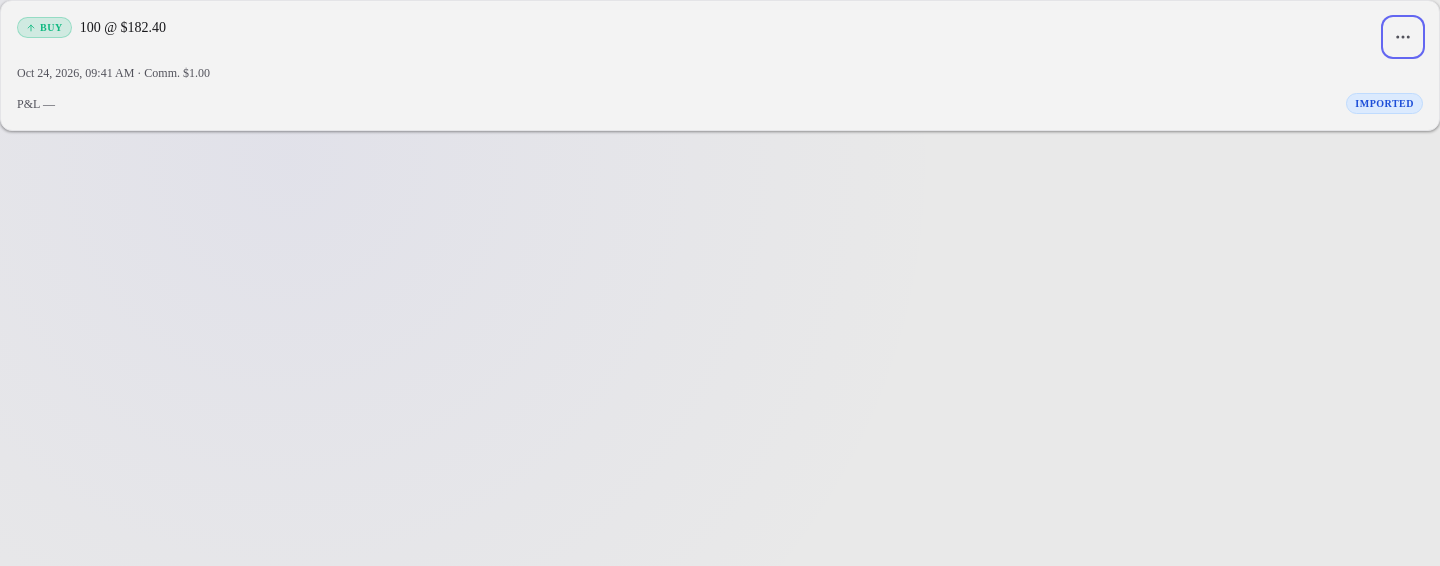
ExecutionLegCard editing › rejects invalid Price without sending a mutation
Press Enter
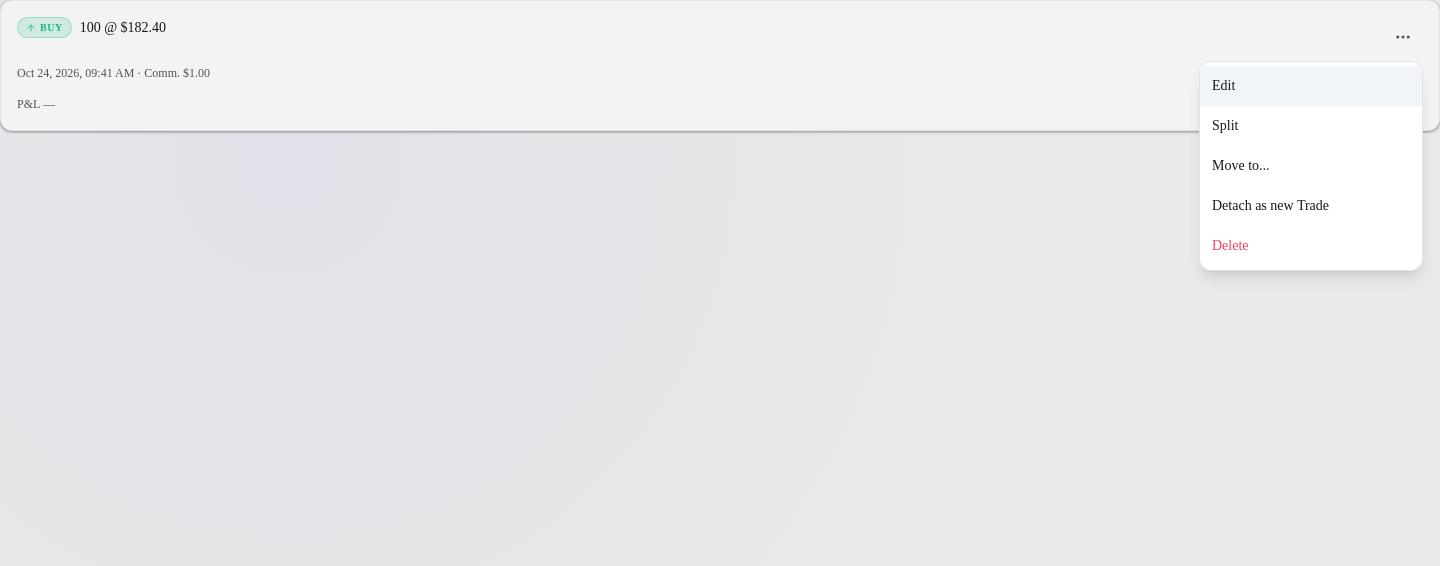
Click the menu item "Edit" at (1311,86), box x1=1200 y1=66 x2=1422 y2=106
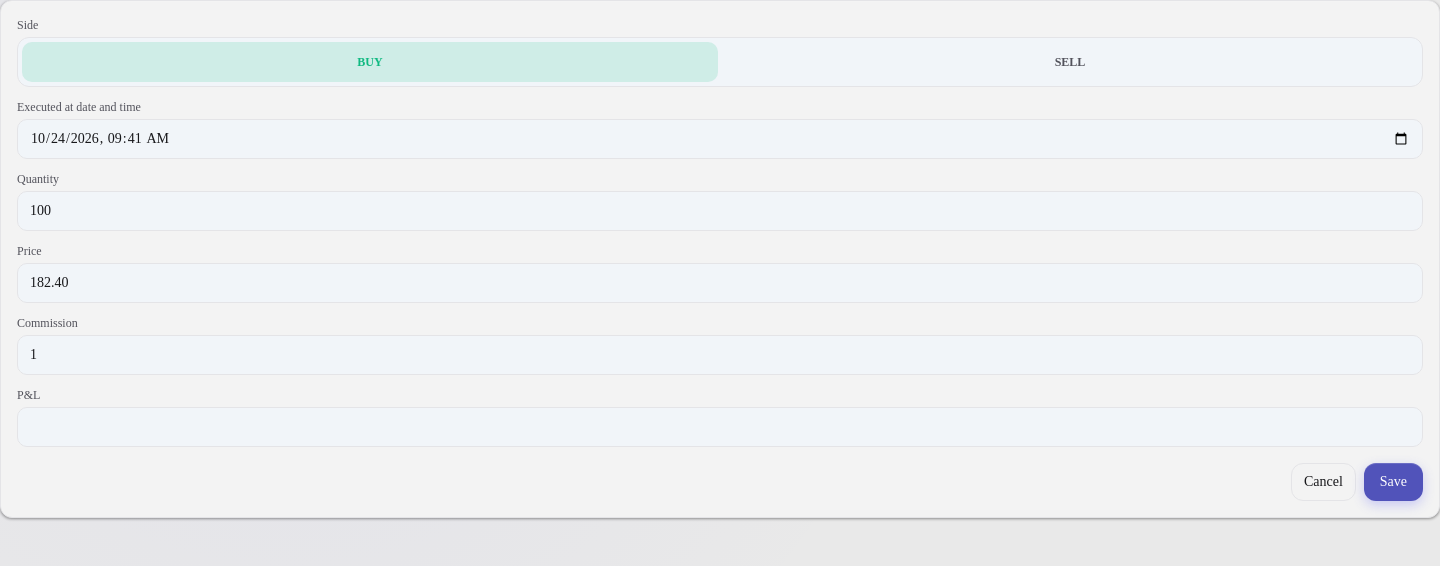
Replace the text in the number field labelled "Price" with "-1" at (720,283), box x1=17 y1=263 x2=1423 y2=303
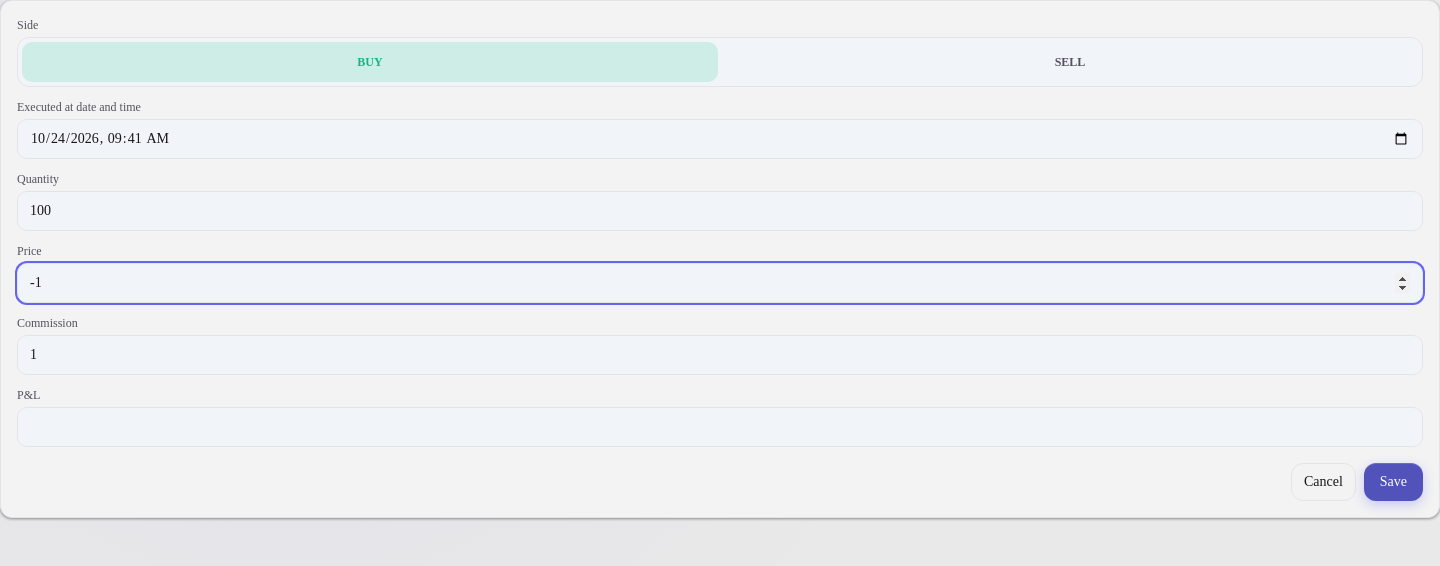
Click the button "Save" at (1393,482), box x1=1364 y1=463 x2=1423 y2=501
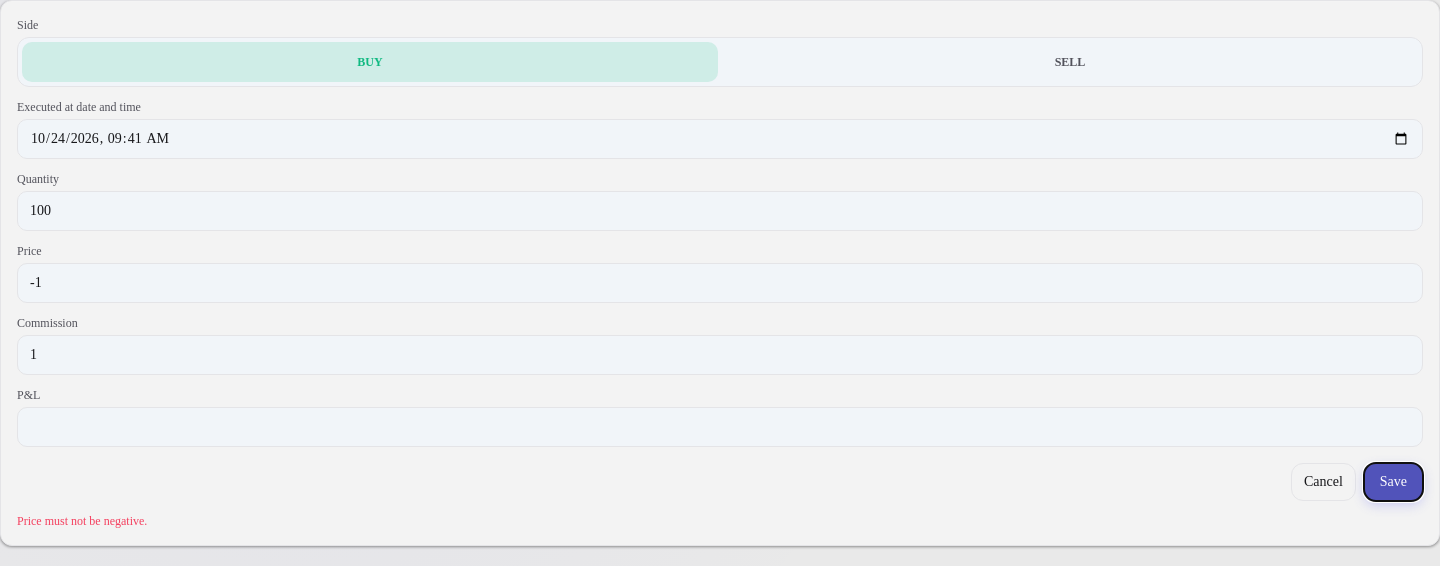
Result: the form named "Edit execution" is shown
Result: the message reads "Price must not be negative." at x1=17 y1=514 x2=147 y2=528
